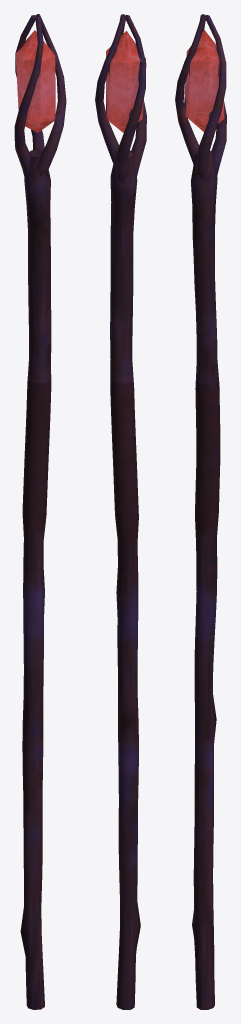
3 views of the same model, side by side, from view 1: azimuth 30°, elevation 25°; view 2: azimuth 210°, elevation 25°; view 3: azimuth 330°, elevation 25° (orthographic).
Visible parts, largest first — view 1: variant_0; view 2: variant_0; view 3: variant_0.
Part boxes in pixels (left/top/right/bottom): variant_0: left=14, top=14, right=66, bottom=1009; variant_0: left=95, top=14, right=146, bottom=1009; variant_0: left=175, top=14, right=226, bottom=1009.
Bounding box in the file's own units: 0.0874 × 1.71 × 0.081.
Materials: 2 (2 with a texture image).
